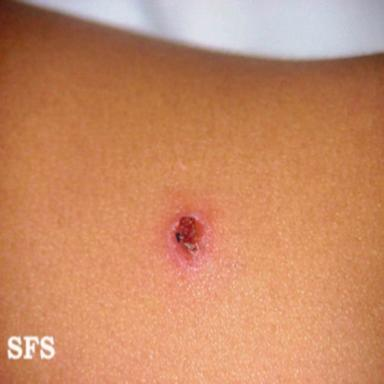Impetigo: (168, 205, 215, 270)
